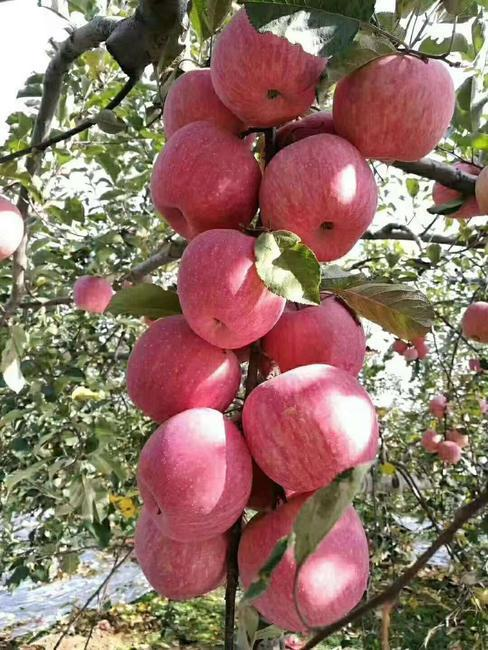apple: (237, 489, 369, 625), (241, 364, 377, 494), (255, 132, 377, 264), (137, 410, 253, 545), (329, 53, 457, 164), (211, 8, 325, 125), (175, 227, 288, 345), (125, 310, 241, 421), (151, 126, 260, 231), (133, 515, 234, 600), (271, 298, 365, 378), (160, 68, 235, 140), (459, 302, 488, 347)
